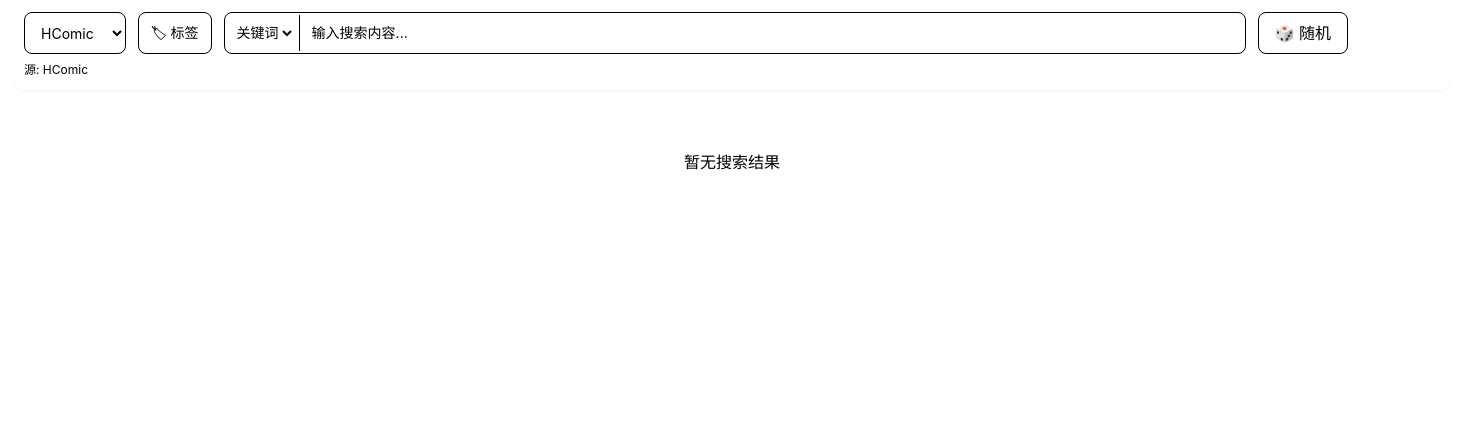
Test: SearchPage › source switching › shows NH entry without auth or automatic content when switching with valid credentials
Select "NH" in the 1st dropdown showing "HComic". click: (75, 33)
box: [24,12,126,54]
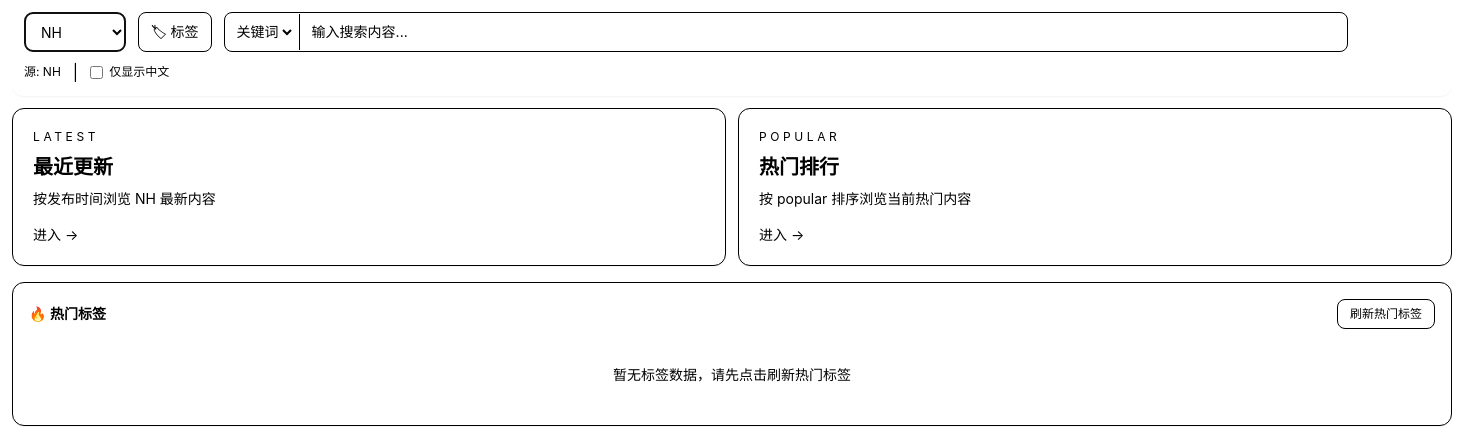
Check: the text "最近更新" is shown, box [33,155,113,179]
Check: the text "热门排行" is shown, box [759,155,839,179]
Check: the heading "🔥 热门标签" is shown, box [29,304,106,324]
